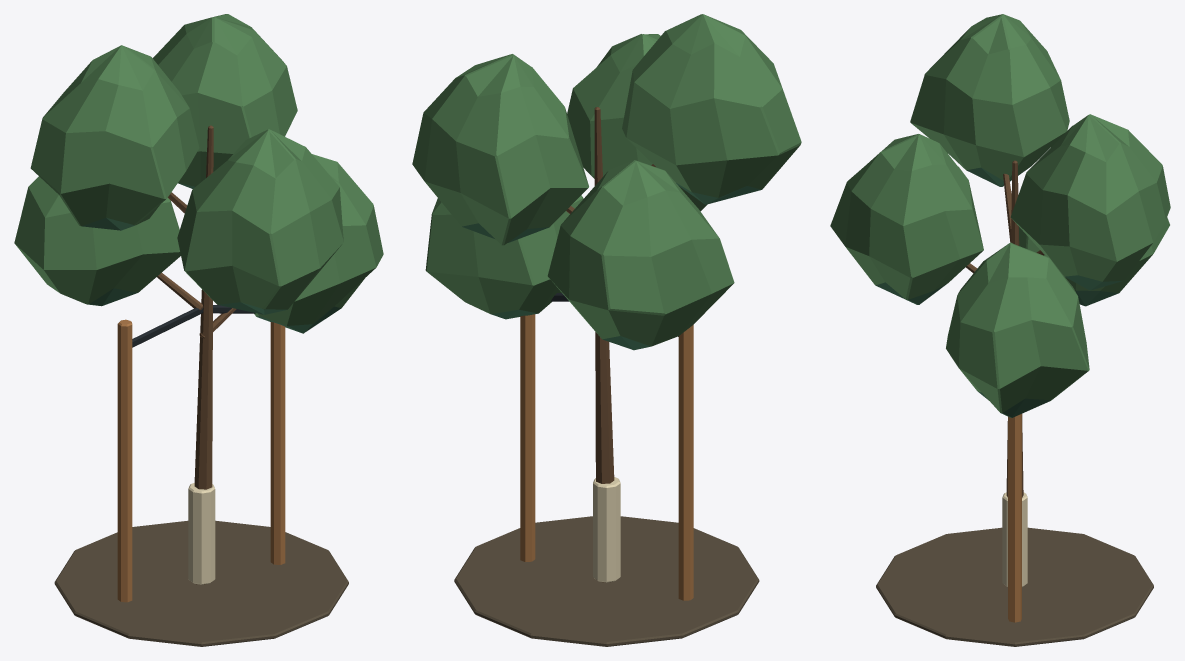
The model's file is b08_staked_young_street_tree.glb.
The picture shows the model from 3 angles, left to right: view 1: azimuth 30°, elevation 25°; view 2: azimuth 150°, elevation 25°; view 3: azimuth 270°, elevation 25°; orthographic projection. The views are drawn at different scales.
Parts seen in each view (by area): view 1: b08_staked_young_street_tree; view 2: b08_staked_young_street_tree; view 3: b08_staked_young_street_tree.
Boxes of the visible parts, x1,y1,x2,y2 form: b08_staked_young_street_tree: (14,14,383,646); b08_staked_young_street_tree: (412,14,801,646); b08_staked_young_street_tree: (830,14,1170,646).
Bounding box in the file's own units: 1.88 × 2.97 × 1.71.
